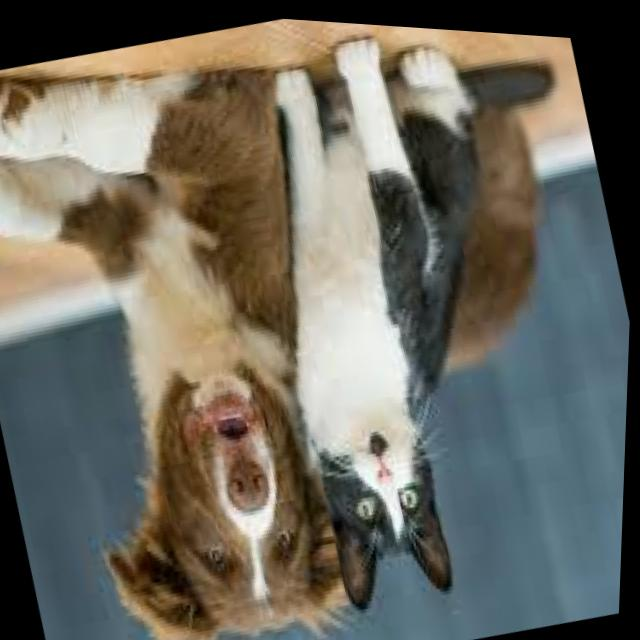Cat: (239, 94, 522, 595)
Dog: (0, 41, 376, 640)
